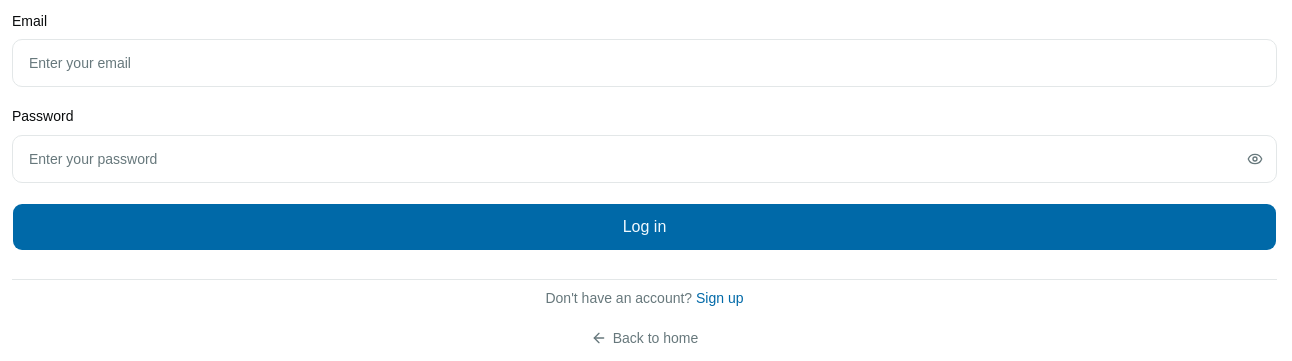
Test case: LoginForm › toggles with mouse and keyboard without losing the value or selection or submitting
Type "password123" into the password field labelled "Password" at coordinates (644, 158), box [12,134,1277,182]
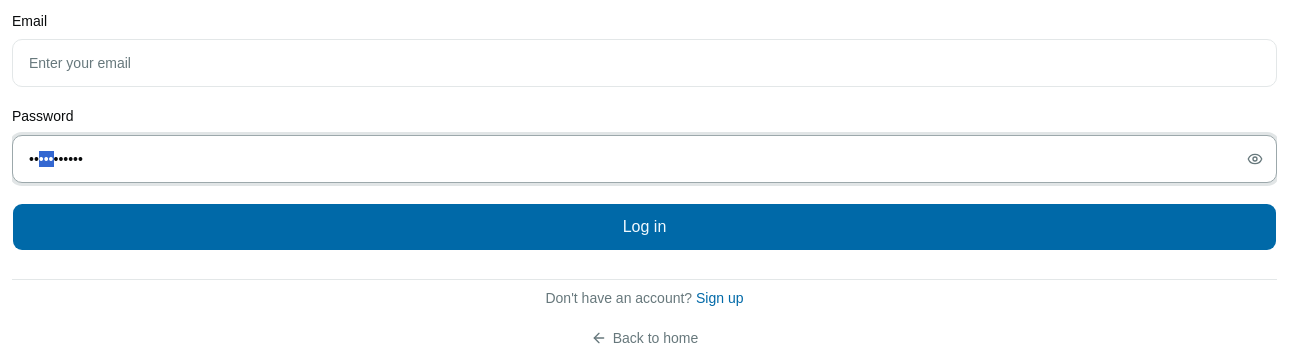
Click the button named "Show password" at coordinates (1255, 158), box [1237,134,1273,182]
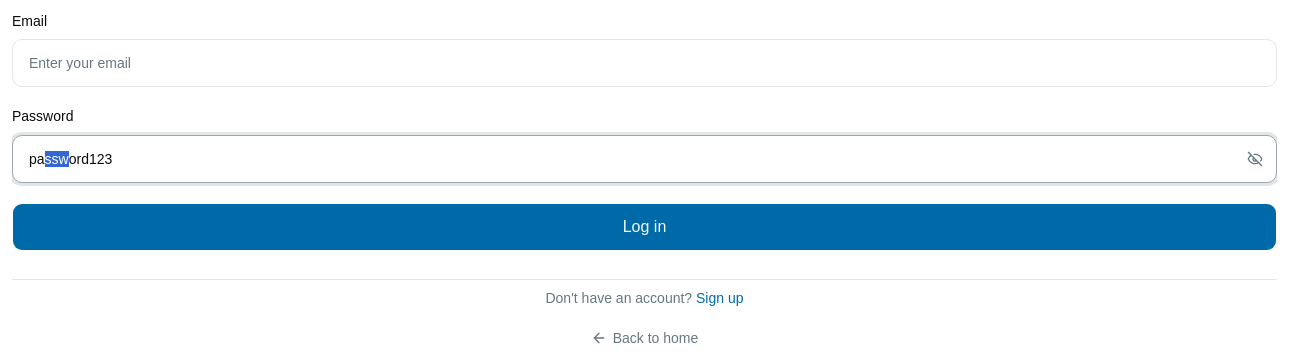
Check: the field labelled "Password" shows its text, box [12,134,1277,182]
Press Tab
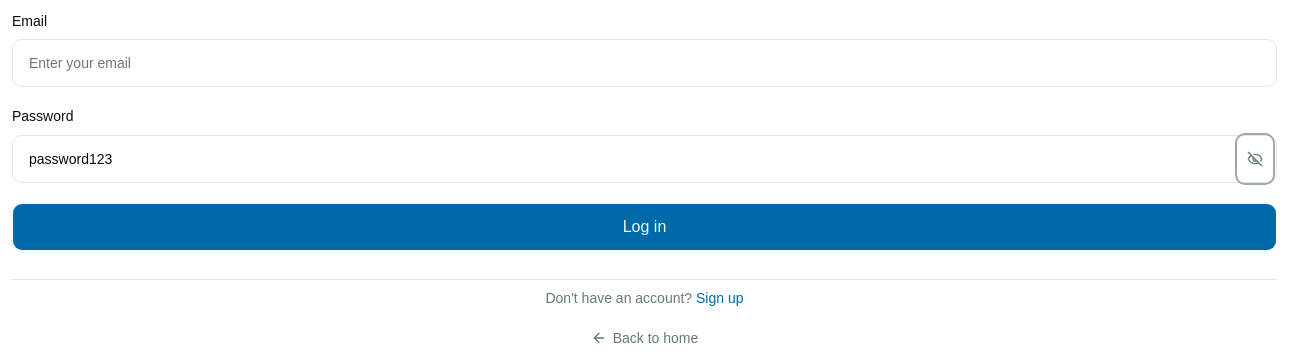
Press Enter
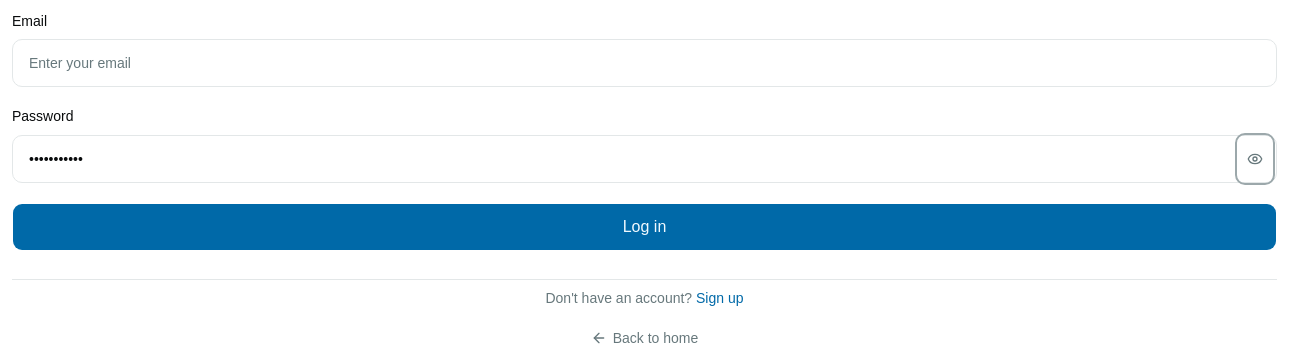
Check: the password field labelled "Password" hides its text, box [12,134,1277,182]
Type keys " "
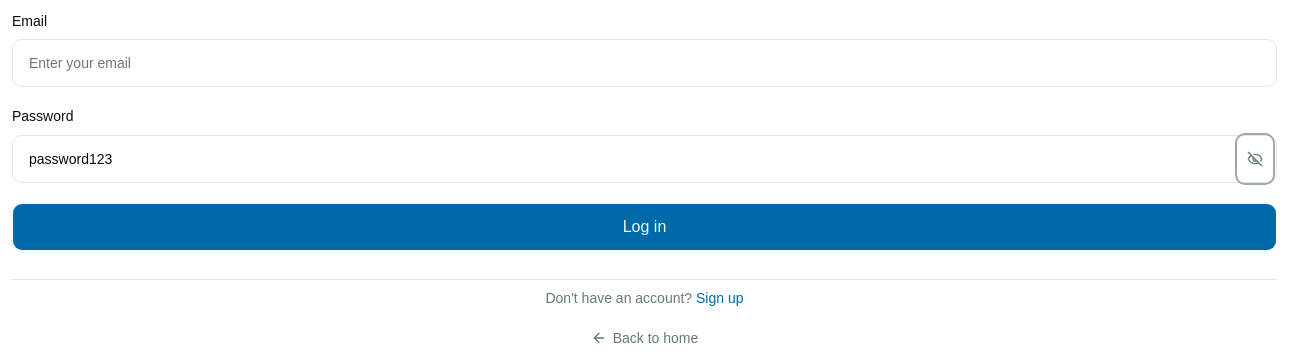
Check: the field labelled "Password" shows its text, box [12,134,1277,182]
